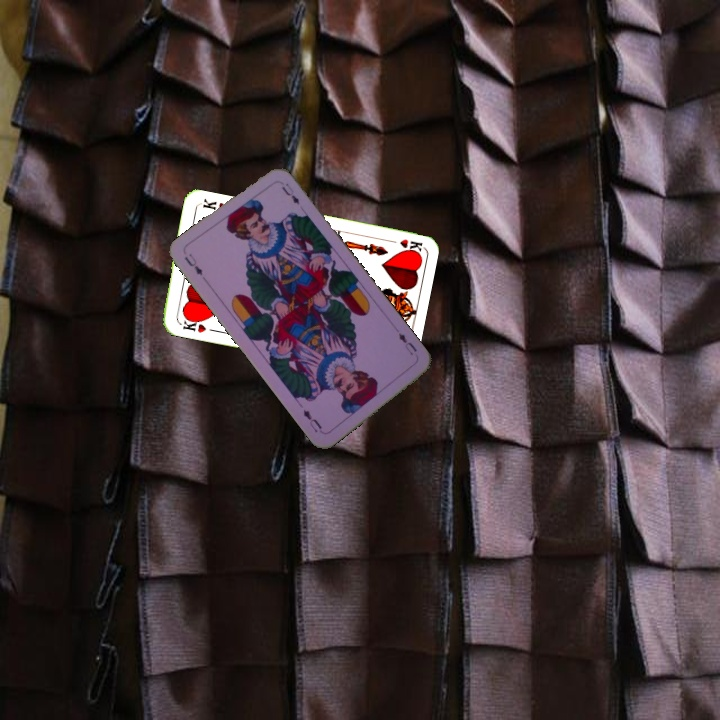EU: (394, 329, 420, 358), (180, 249, 205, 279)
HK: (383, 235, 424, 256), (178, 313, 208, 335)
